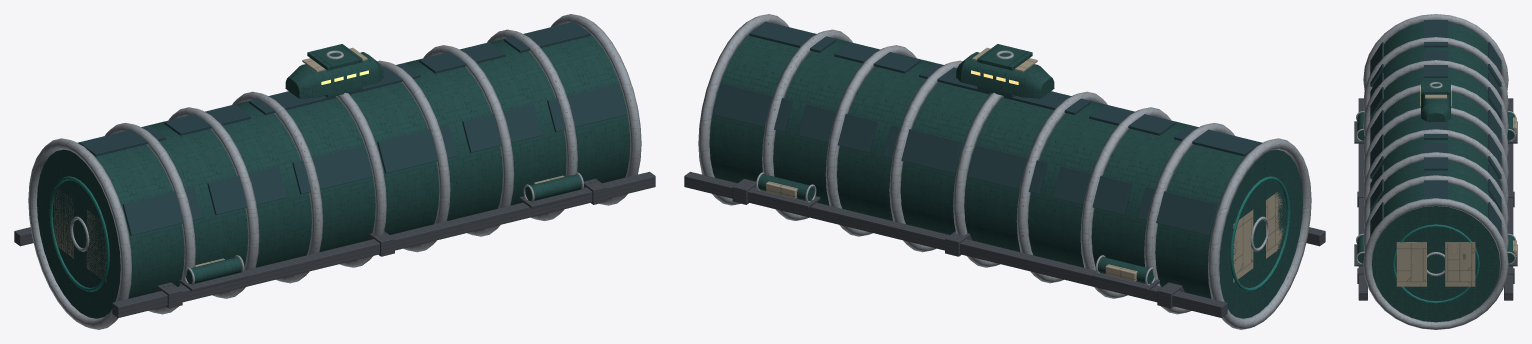
File: large_agricultural_cylinder_lod0.glb
3 views of the same model, side by side, from view 1: azimuth 30°, elevation 25°; view 2: azimuth 150°, elevation 25°; view 3: azimuth 270°, elevation 25° (orthographic). The views are drawn at different scales.
Parts seen in each view (by area): view 1: LOD0_Armor, LOD0_BrushedMetal, LOD0_CANOPY, LOD0_Mechanical, LOD0_Hull, LOD0_Livery; view 2: LOD0_Armor, LOD0_BrushedMetal, LOD0_CANOPY, LOD0_Mechanical, LOD0_Hull, LOD0_Livery; view 3: LOD0_Armor, LOD0_BrushedMetal, LOD0_CANOPY, LOD0_Hull, LOD0_Mechanical, LOD0_Livery.
Part boxes in pixels (x1,y1,x2,y2): LOD0_Armor: (37,34,630,318); LOD0_BrushedMetal: (28,14,641,329); LOD0_CANOPY: (79,21,626,235); LOD0_Mechanical: (14,171,655,317); LOD0_Hull: (53,47,564,281); LOD0_Livery: (49,176,109,291); LOD0_Armor: (709,34,1302,318); LOD0_BrushedMetal: (698,14,1311,329); LOD0_CANOPY: (713,21,1260,235); LOD0_Mechanical: (684,171,1325,317); LOD0_Hull: (766,47,1284,282); LOD0_Livery: (1230,176,1290,291); LOD0_Armor: (1357,22,1514,322); LOD0_BrushedMetal: (1356,14,1515,329); LOD0_CANOPY: (1370,20,1501,235); LOD0_Hull: (1396,94,1516,286); LOD0_Mechanical: (1354,98,1517,300); LOD0_Livery: (1392,224,1479,303).
Size of the model in its own units: 76 by 27.93 by 27.
7 materials, 5 textured.
